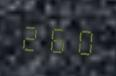six: (45, 19, 70, 56)
two: (18, 17, 43, 54)
zero: (71, 20, 96, 58)
